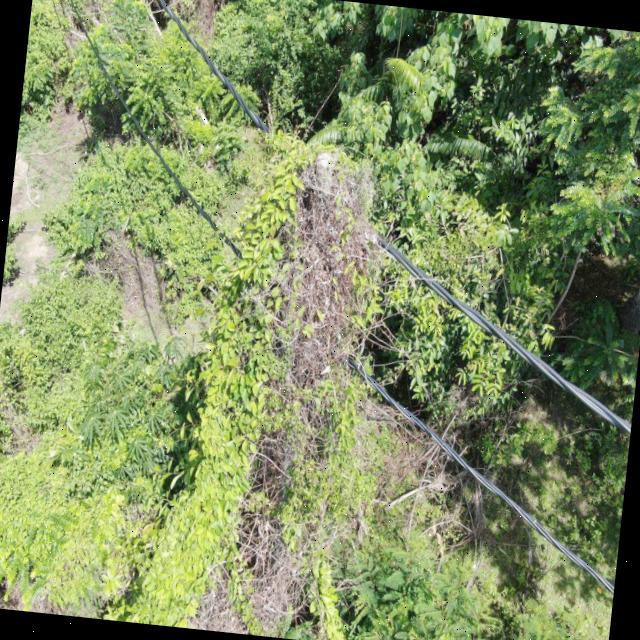critical vegetation: (196, 126, 390, 636)
